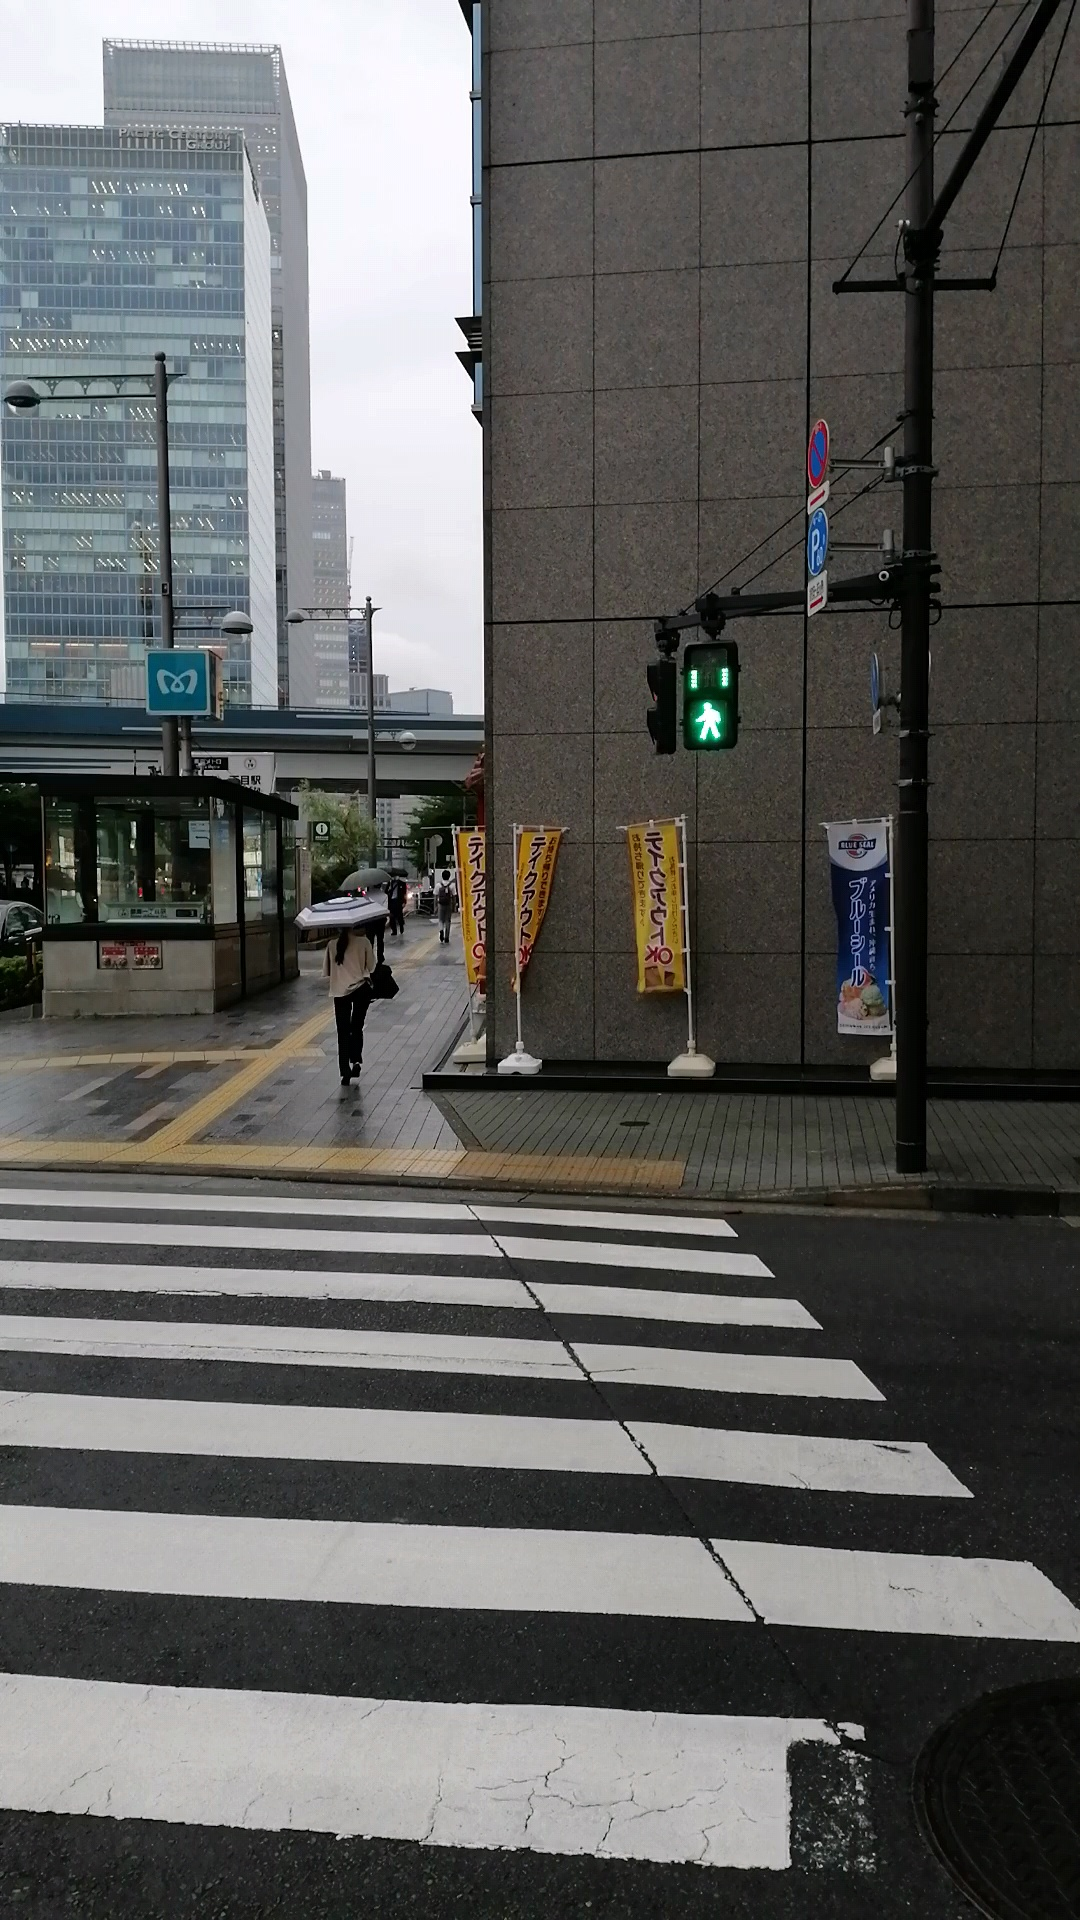green: (680, 642, 741, 749)
